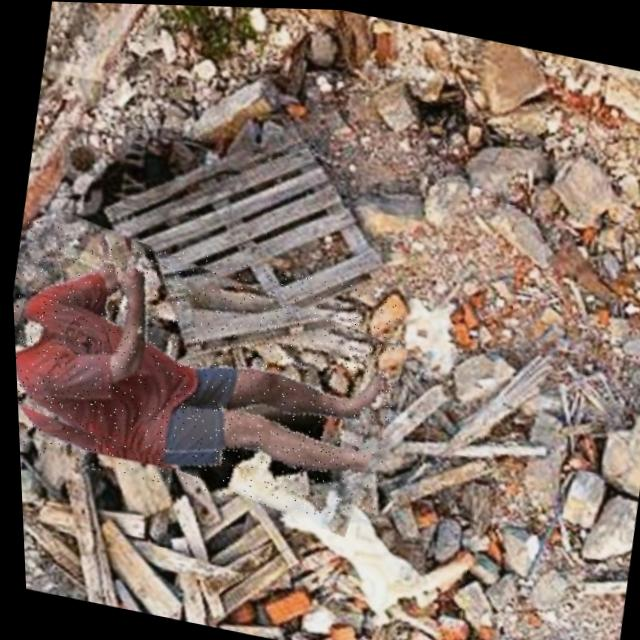Person in Rubble: (8, 216, 412, 524)
